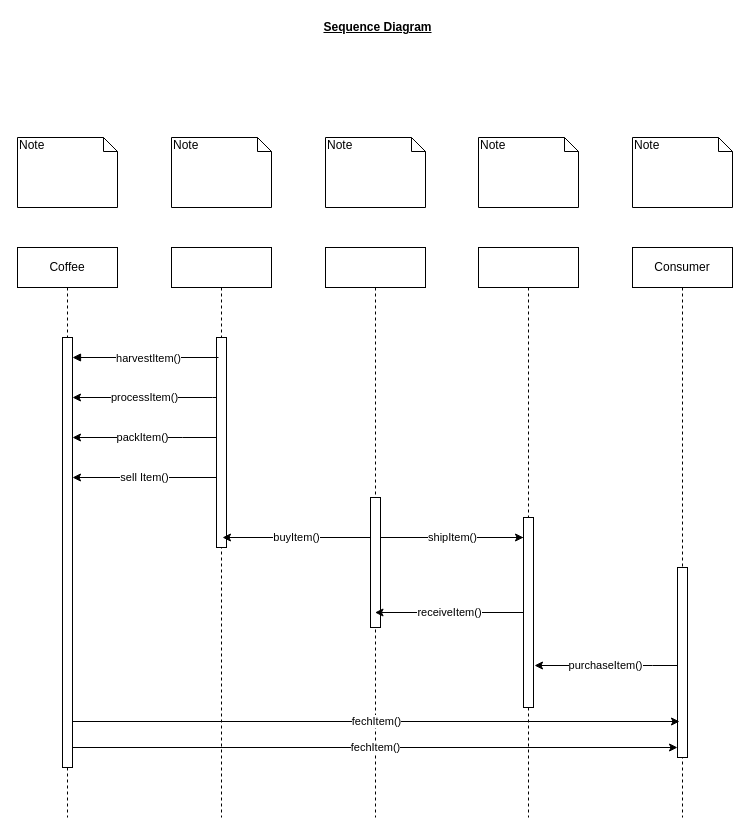
Some shapes in this 750 by 835 pixel diagram are drawn without their labels. The box of each missing label's shape, as (x1, y1, x2, y2) in pixels:
Distributor: (324, 246, 426, 818)
Farmer: (170, 246, 272, 818)
Retailer: (478, 246, 578, 818)
